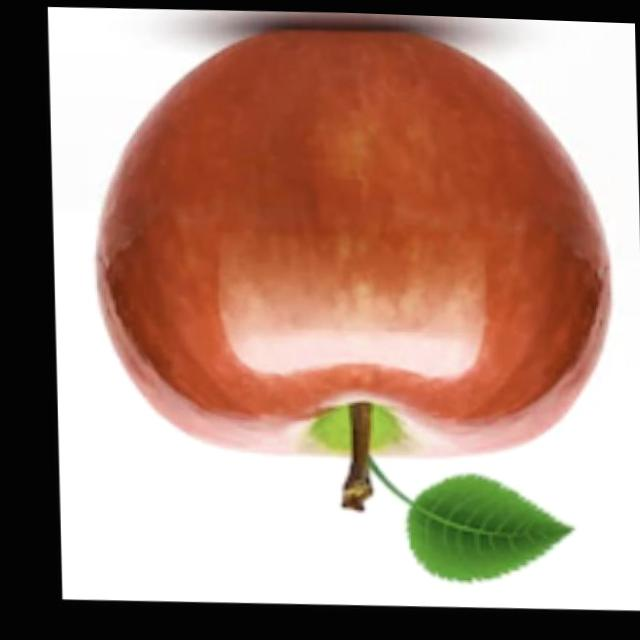Apple: (88, 12, 617, 522)
